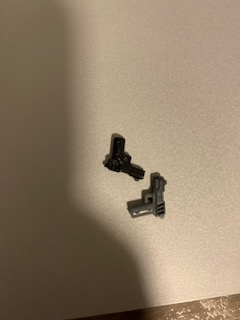pistol: (101, 127, 147, 185), (129, 174, 170, 219)
